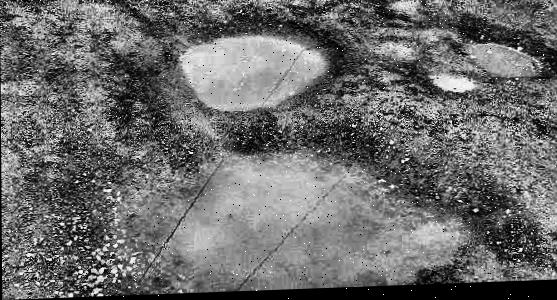pothole: (81, 119, 528, 297), (165, 17, 339, 117), (456, 27, 557, 87), (428, 71, 477, 99)
